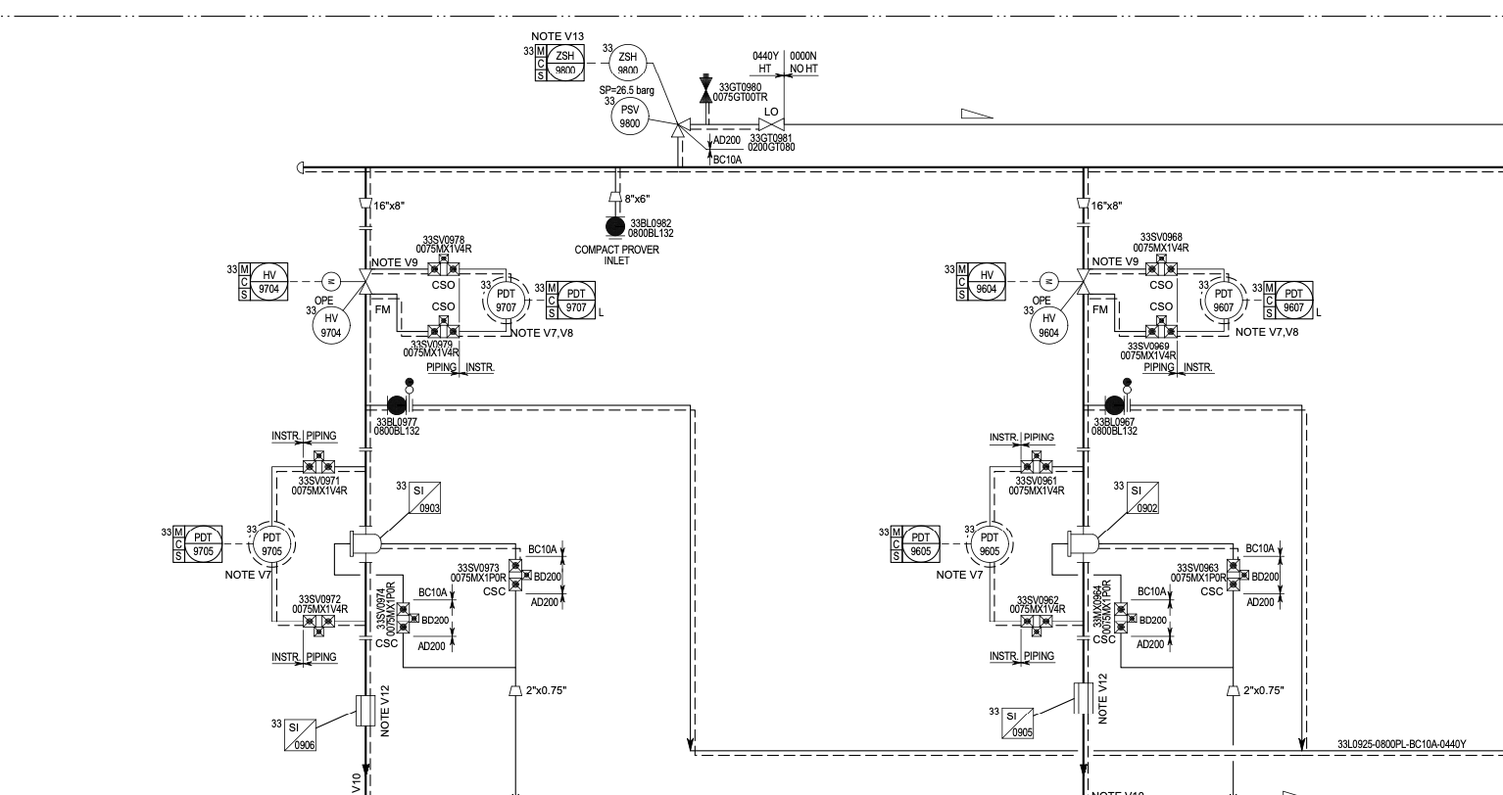Instrument: (238, 515, 300, 570), (957, 514, 1017, 569), (1193, 268, 1248, 326), (474, 269, 527, 326), (597, 91, 652, 141), (597, 36, 653, 85), (1020, 299, 1071, 349), (305, 299, 352, 353)
Instrument-square: (526, 271, 605, 330), (511, 32, 590, 89), (158, 512, 229, 575), (934, 253, 1013, 308), (220, 249, 294, 306), (1250, 273, 1325, 328), (870, 517, 945, 571)
